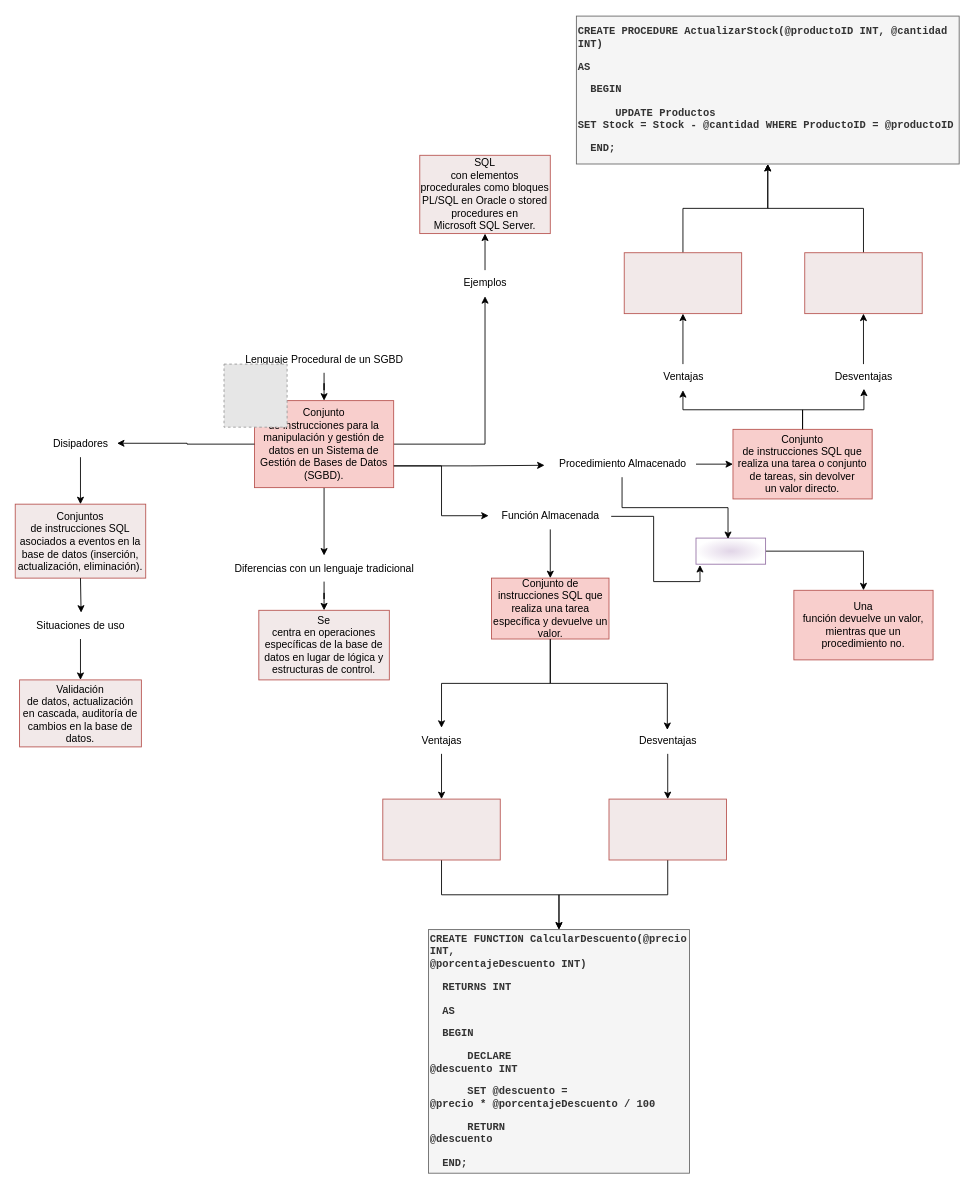
Image size: 974x1195. Some labels were removed from this diagram. Grey dashed boxes stand in for pictures. The box of each missing label's shape, as (x1, y1, x2, y2) in pixels:
Diferencia: (695, 537, 766, 564)
Mayor flexibilidad, permite tareas complejas en la base de datos.: (623, 252, 742, 314)
Menos flexibilidad, algunas limitaciones en la complejidad.: (608, 798, 726, 860)
Menos reutilización de código, puede ser menos eficiente en ciertos casos.: (804, 252, 922, 314)
Reutilización de código, optimización del rendimiento, modularidad.: (382, 798, 500, 860)
